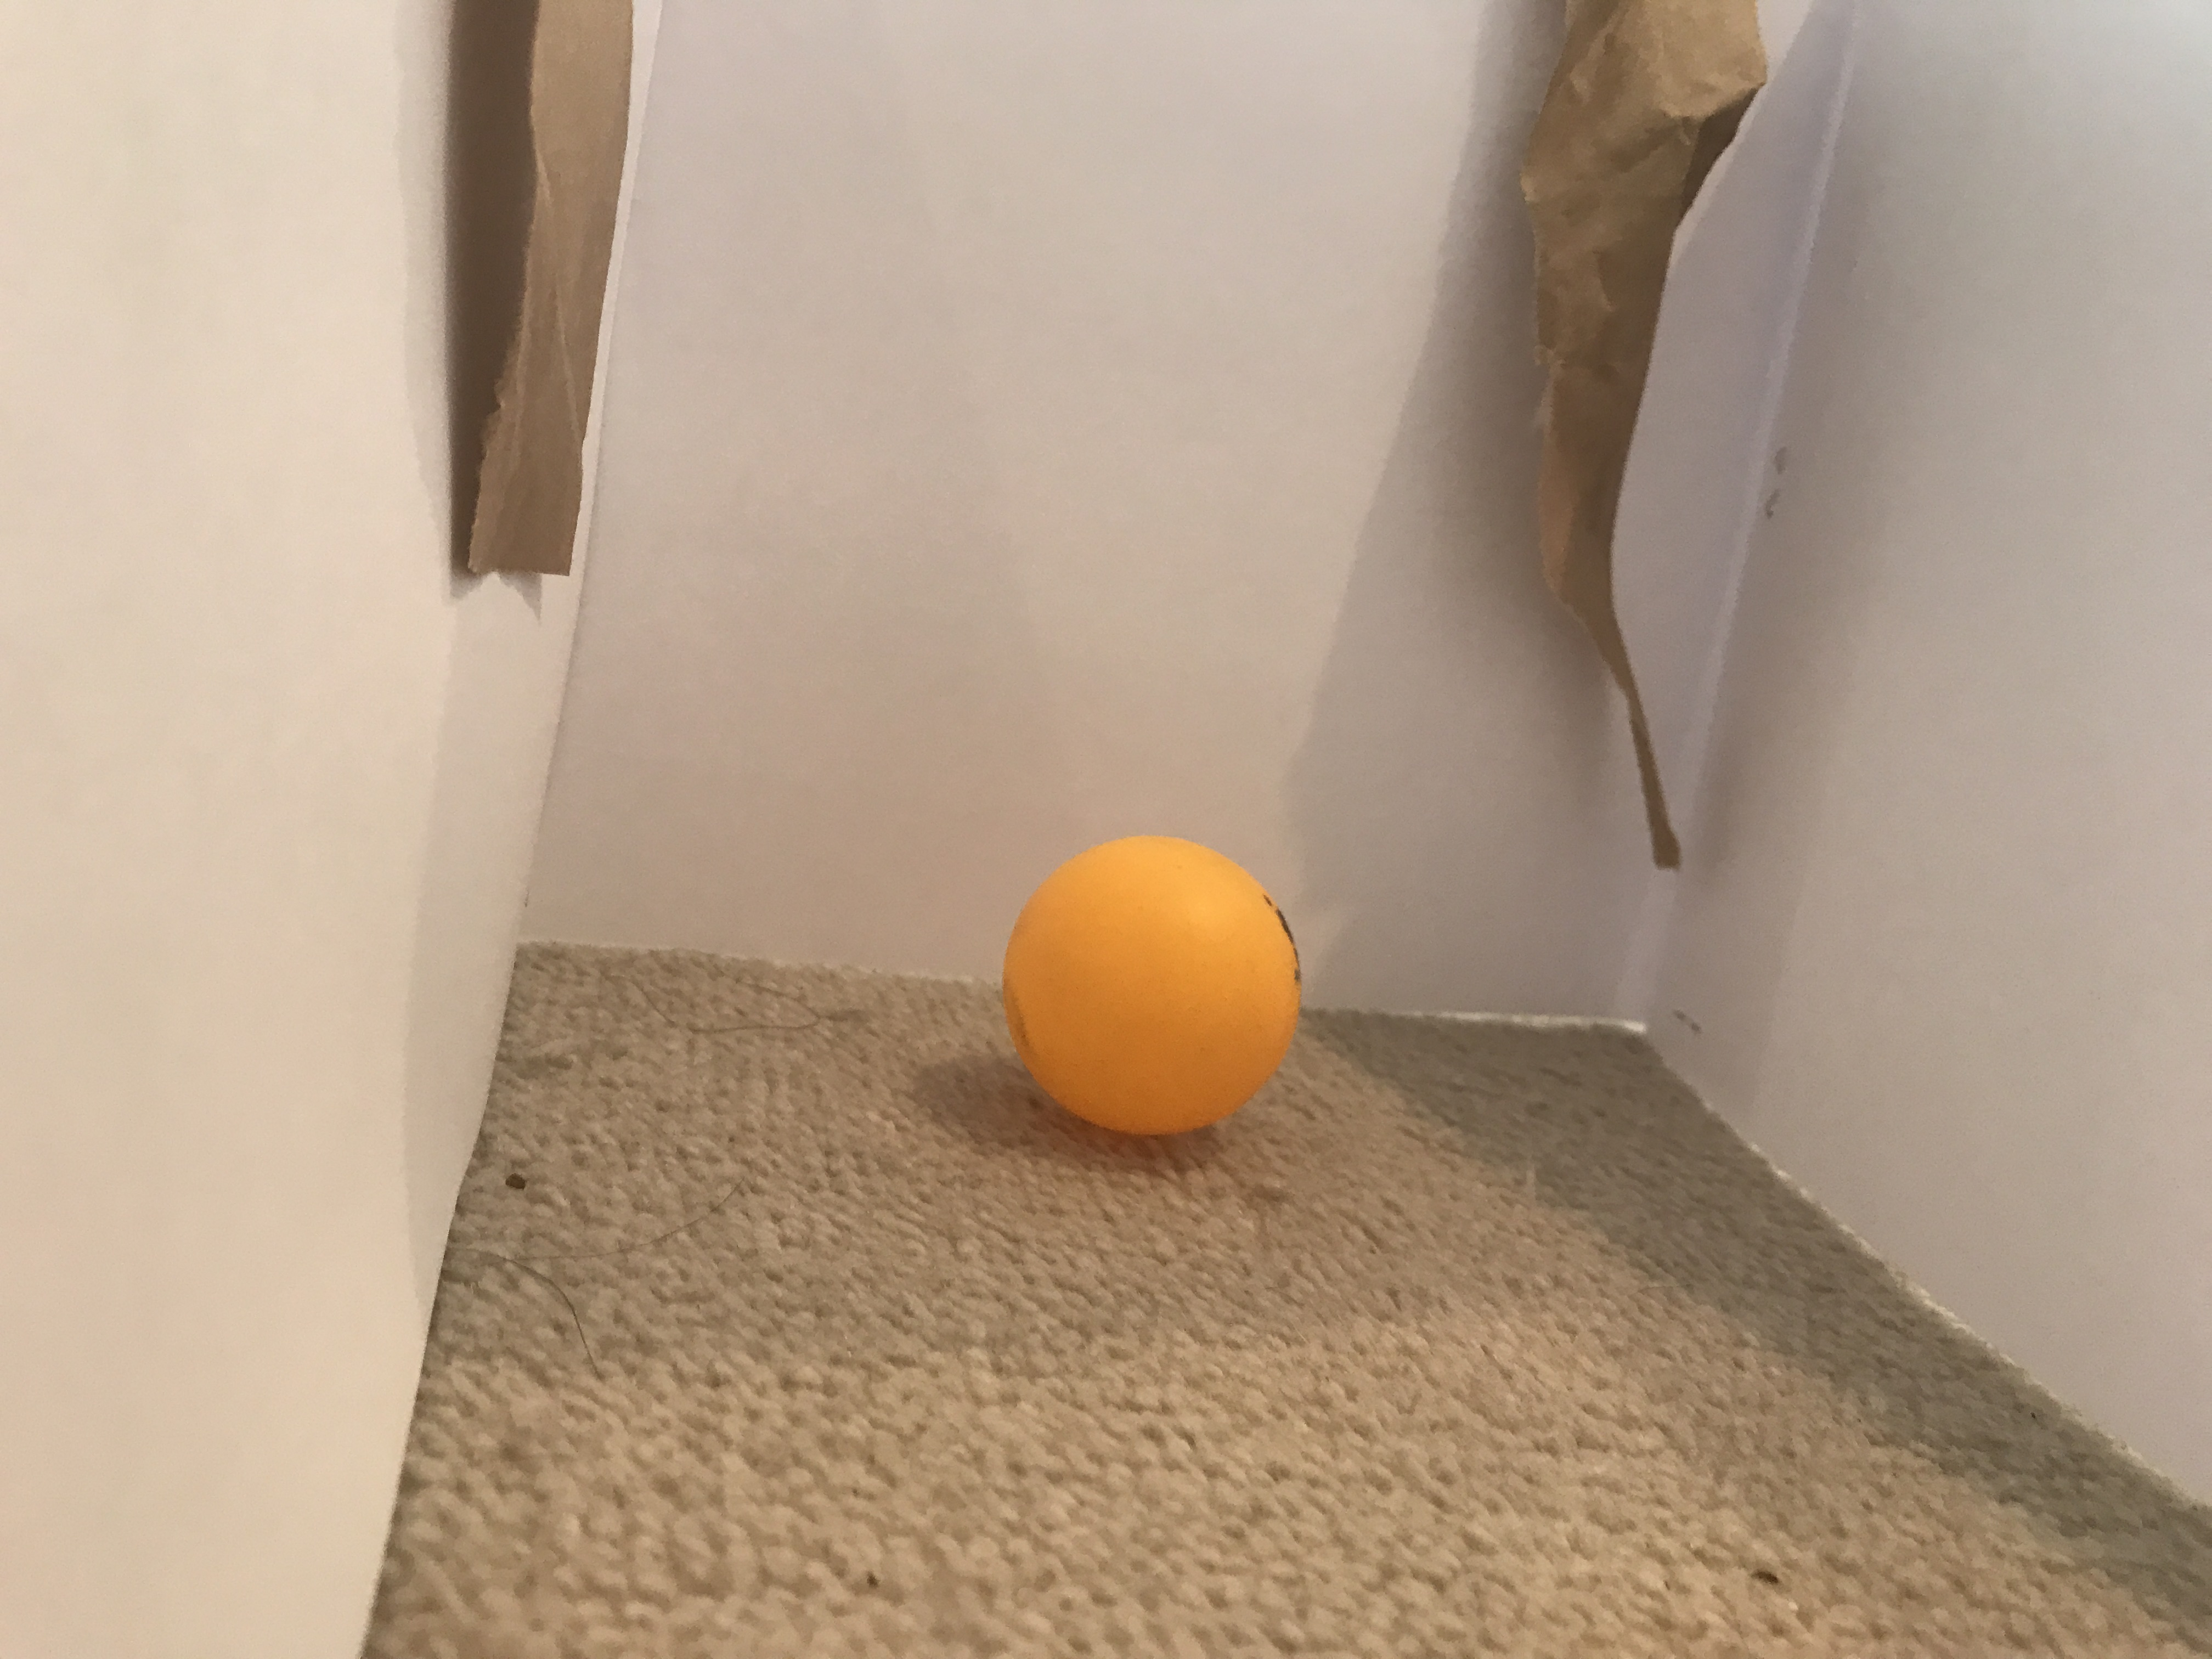pp: (1000, 833, 1310, 1136)
